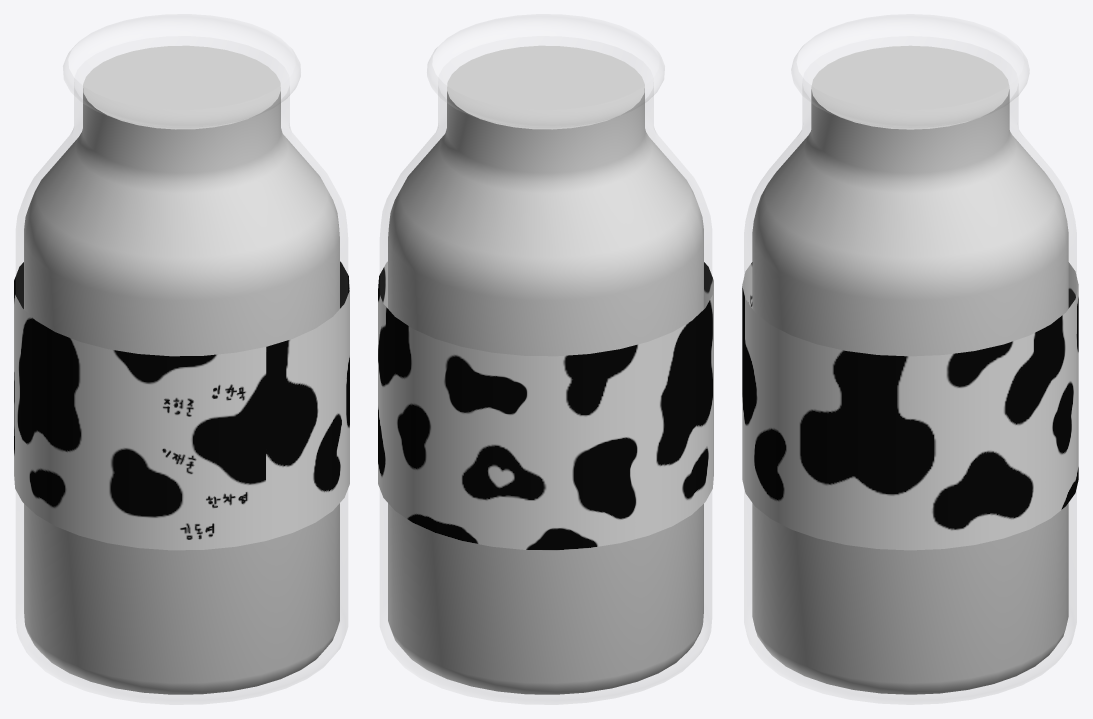
Rendered from MilkBottle.fbx.
The picture shows the model from 3 angles, left to right: view 1: azimuth 30°, elevation 25°; view 2: azimuth 150°, elevation 25°; view 3: azimuth 270°, elevation 25°; orthographic projection.
Visible parts, largest first — view 1: Milk, Label, Bottle; view 2: Milk, Label, Bottle; view 3: Milk, Label, Bottle.
Boxes of the visible parts, box(x1,y1,x2,y2) form: Milk: box(24, 45, 339, 694); Label: box(14, 261, 349, 550); Bottle: box(16, 48, 347, 704); Milk: box(388, 45, 703, 694); Label: box(378, 261, 713, 550); Bottle: box(380, 48, 711, 704); Milk: box(752, 45, 1068, 694); Label: box(742, 262, 1078, 550); Bottle: box(744, 47, 1076, 704).
Size of the model in its own units: 505 by 954 by 505.
